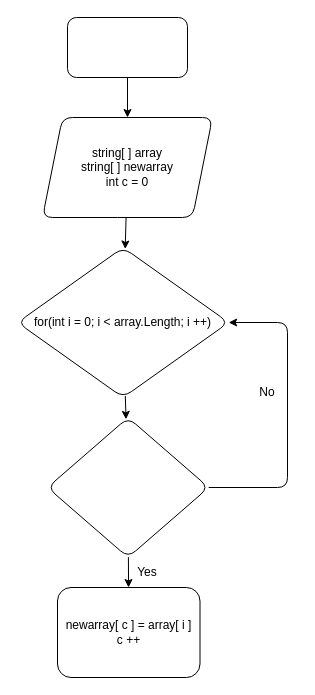
This 315x695 diagram has some shape labels left out. The centre of each missing label's shape, as x and y in pixels:
"if (array[ i ].Length < = 3" goes at pixel 127 487.
"start" goes at pixel 127 47.
